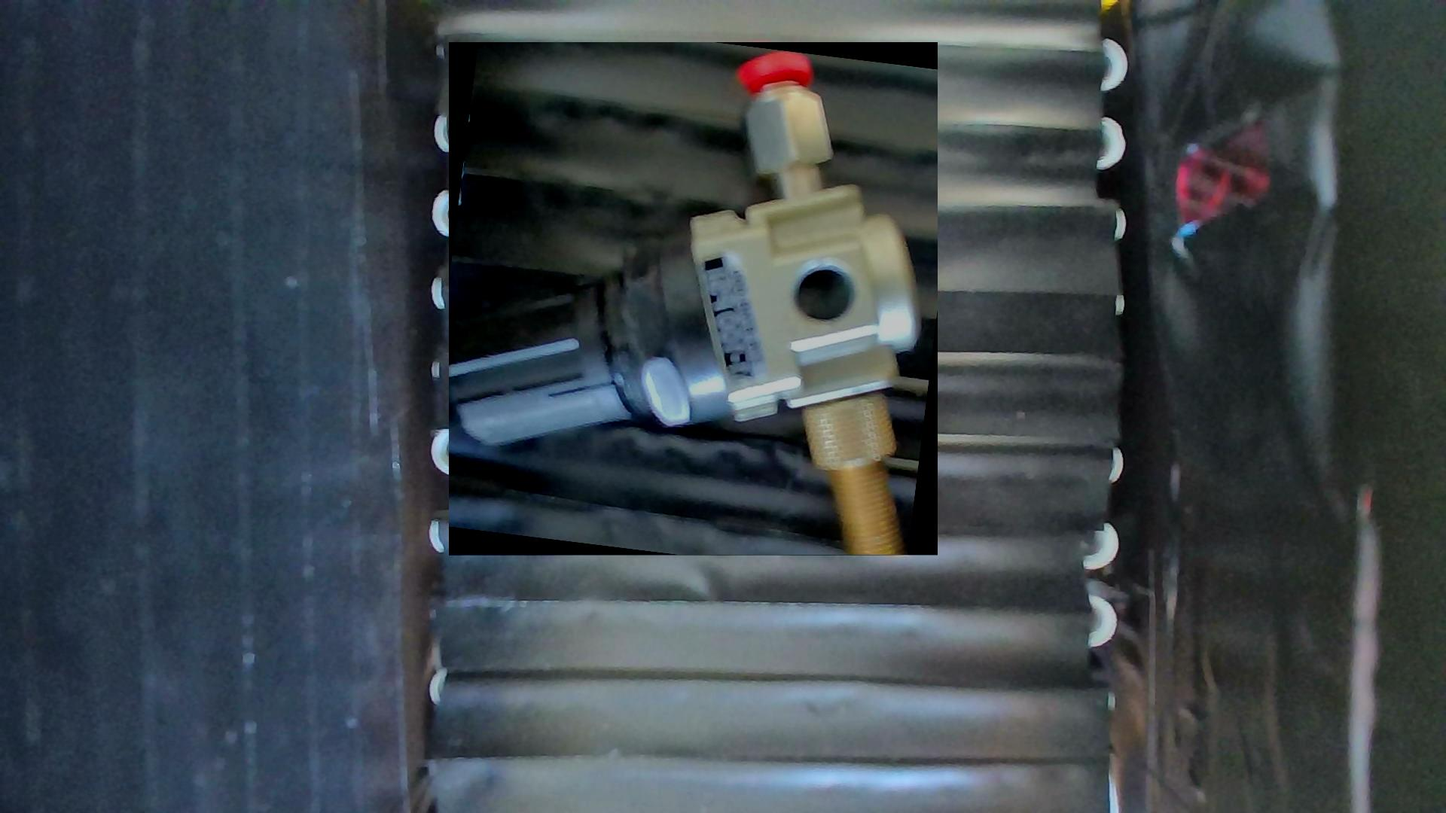regulator: (449, 43, 938, 556)
